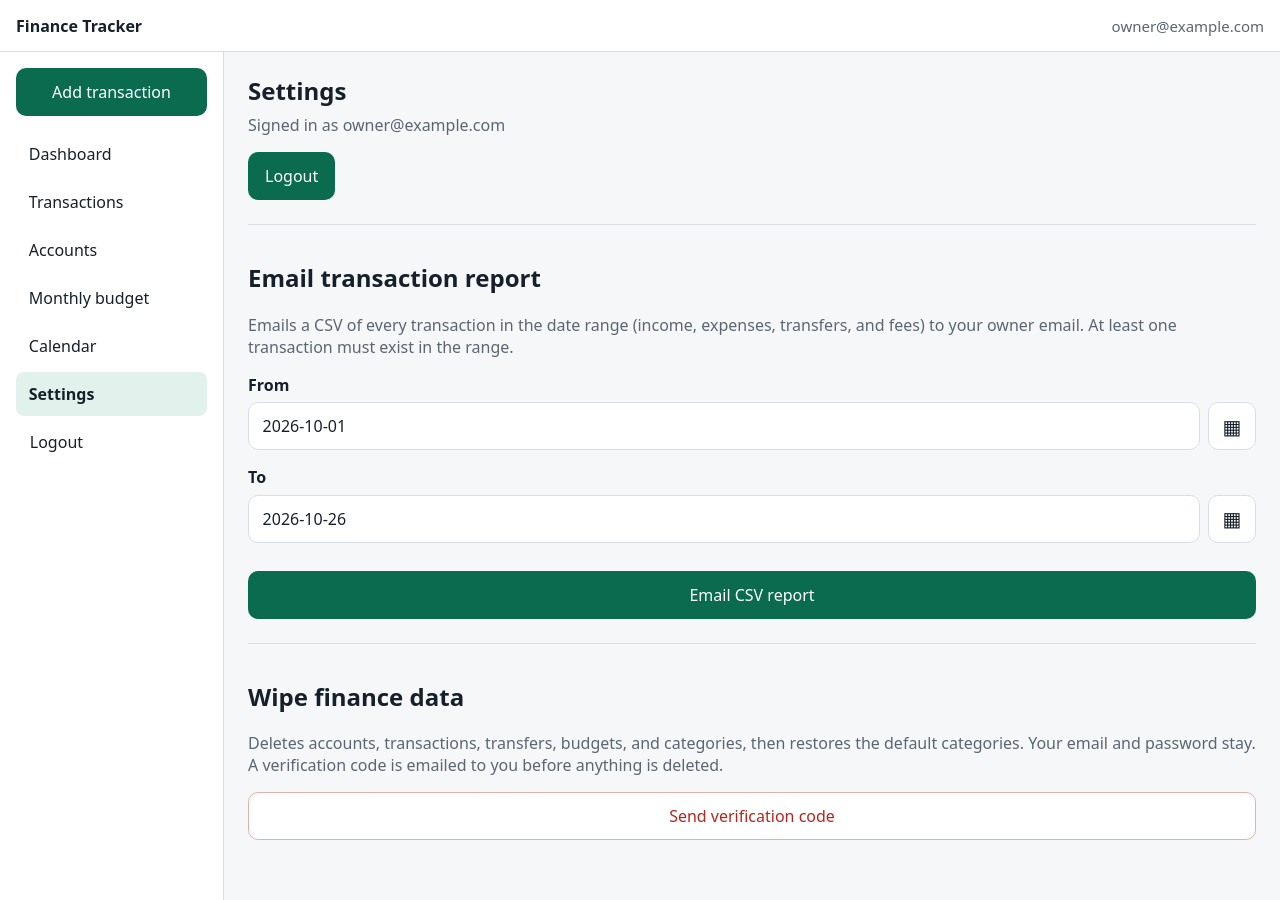
Test case: settings data wipe › requests a code then confirms wipe with the typed code
Expected: the heading "Wipe finance data" is shown, [248,680,464,712]
Click the button "Send verification code" at x=752, y=816, box [248,792,1256,840]
(page scrolled)
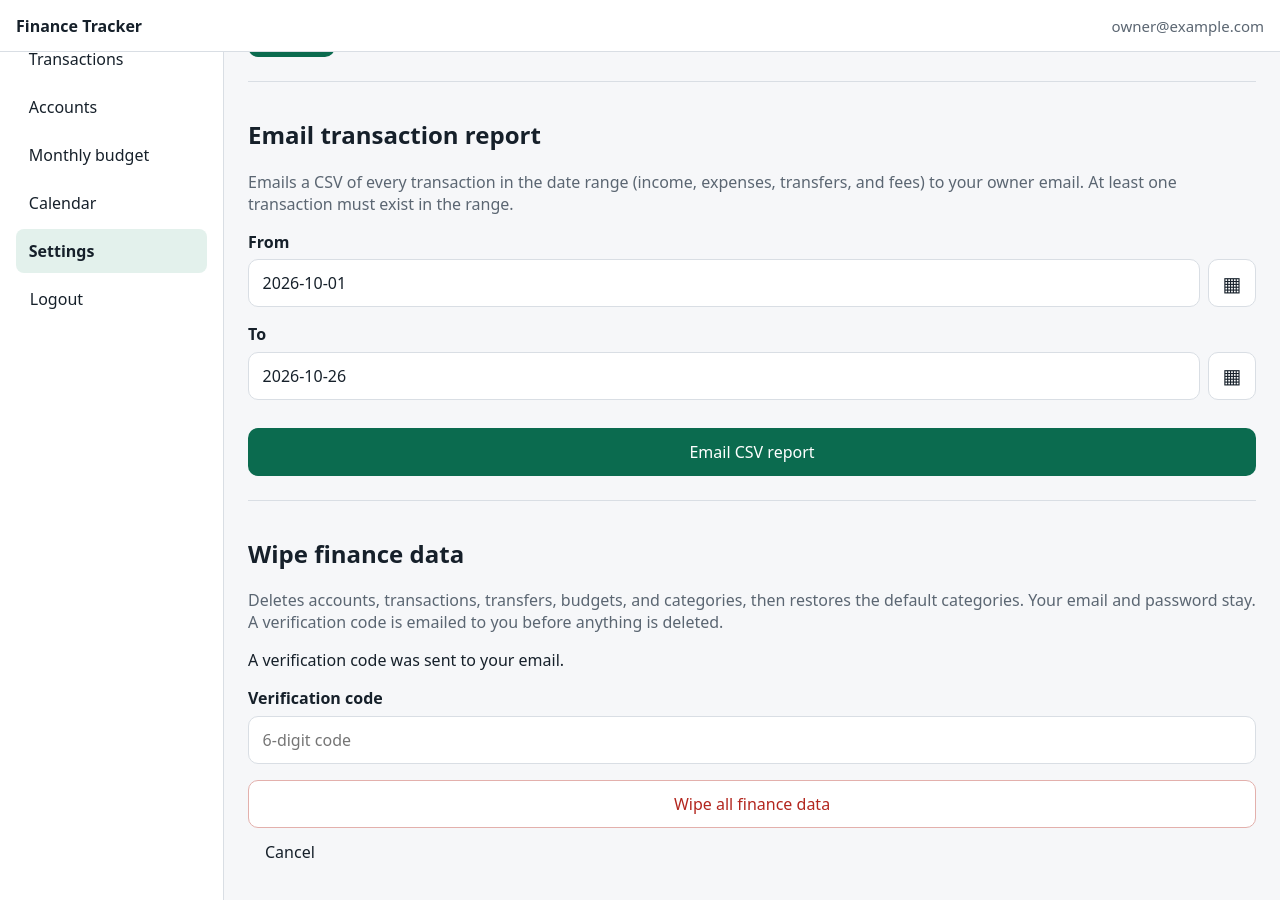
Expected: the text "A verification code was sent to your email." is shown, [248,649,564,671]
Type "123456" into the field labelled "Verification code" at x=752, y=740, box [248,716,1256,764]
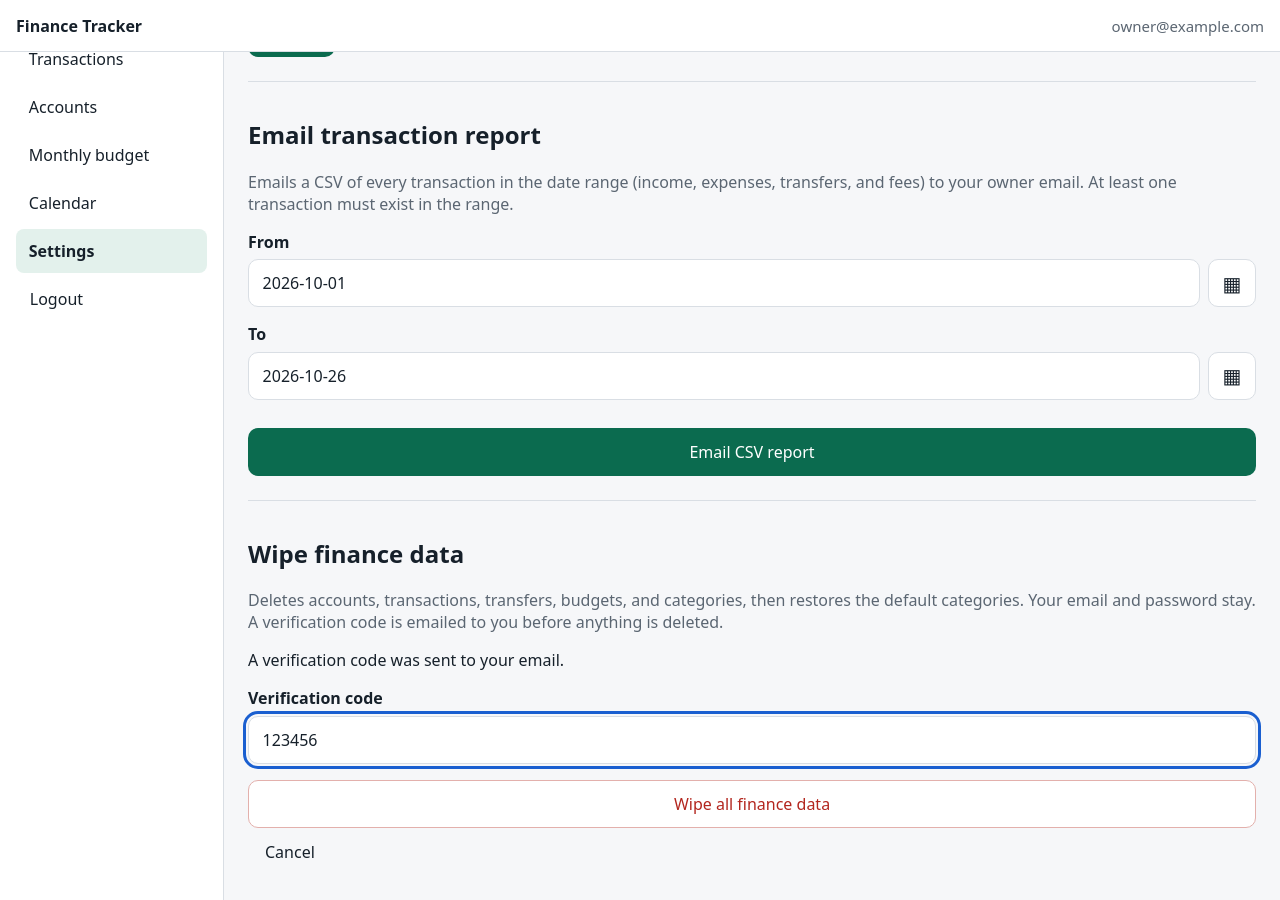
Click the button "Wipe all finance data" at x=752, y=804, box [248,780,1256,828]
(page scrolled)
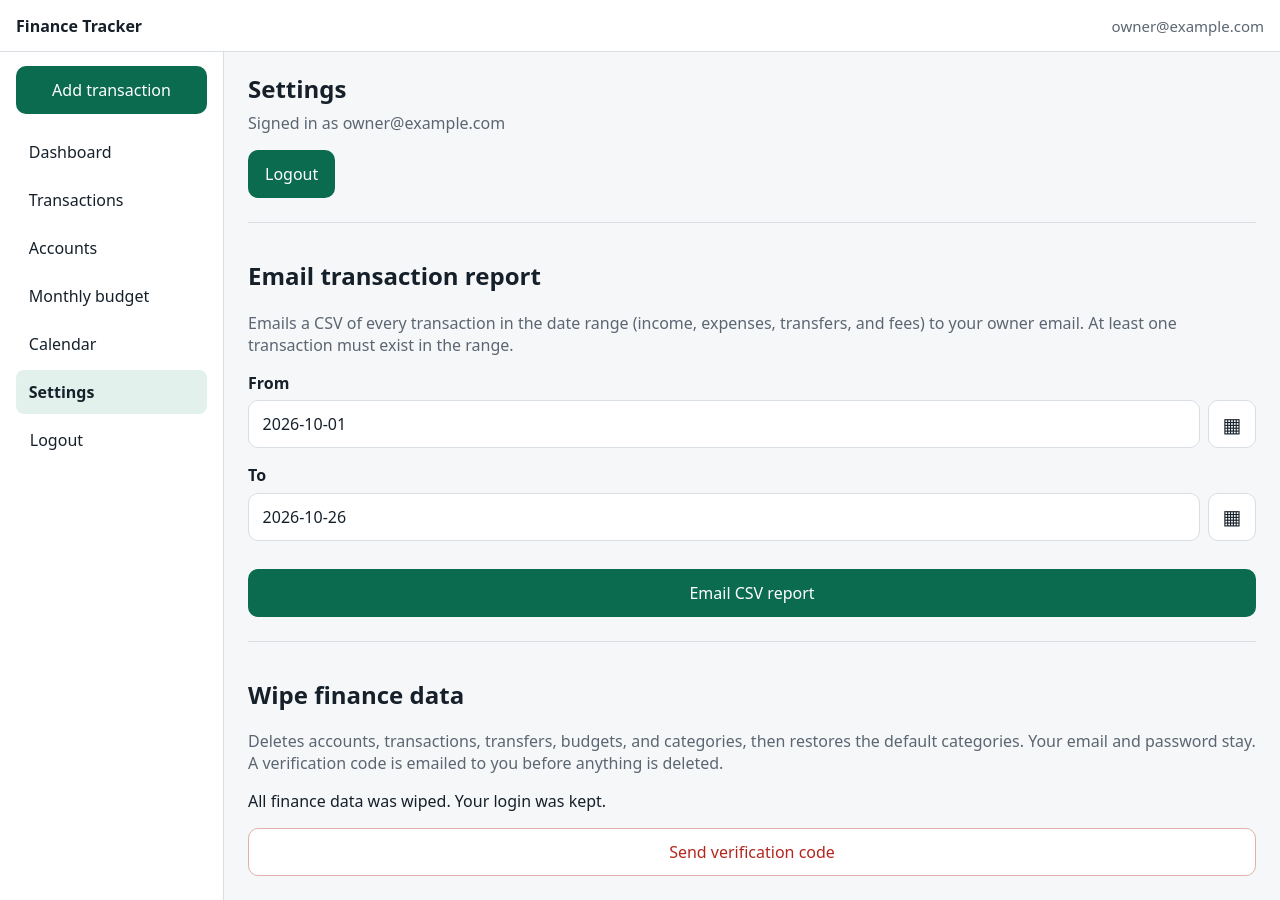
Expected: the message shows "wiped", [248,790,606,812]
